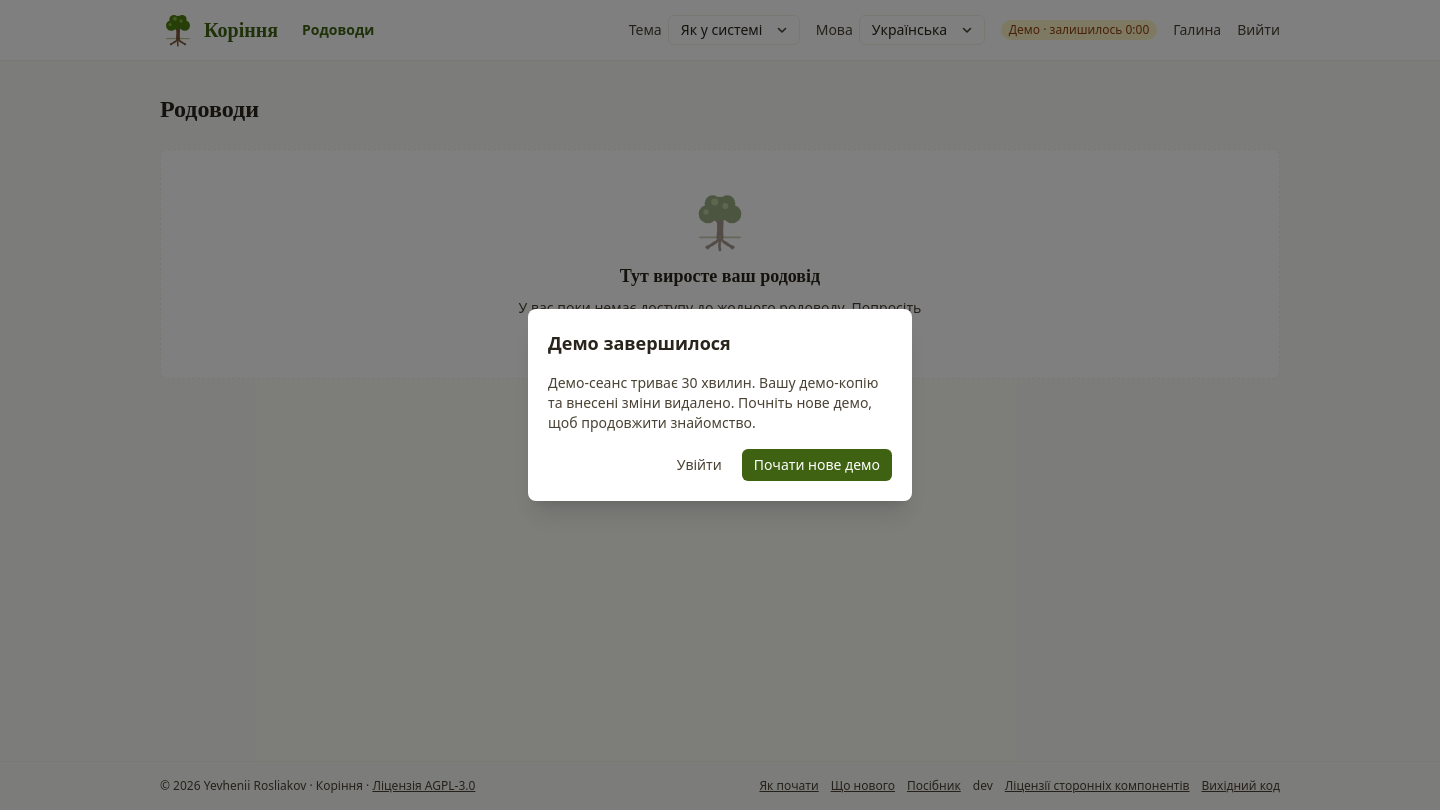
Test case: session timeout › shows the demo countdown and offers a fresh demo when it ends
expect the dialog "Демо завершилося" is shown: met, box x1=528 y1=309 x2=912 y2=501
Click the button "Почати нове демо": (817,465) x1=742 y1=449 x2=892 y2=481
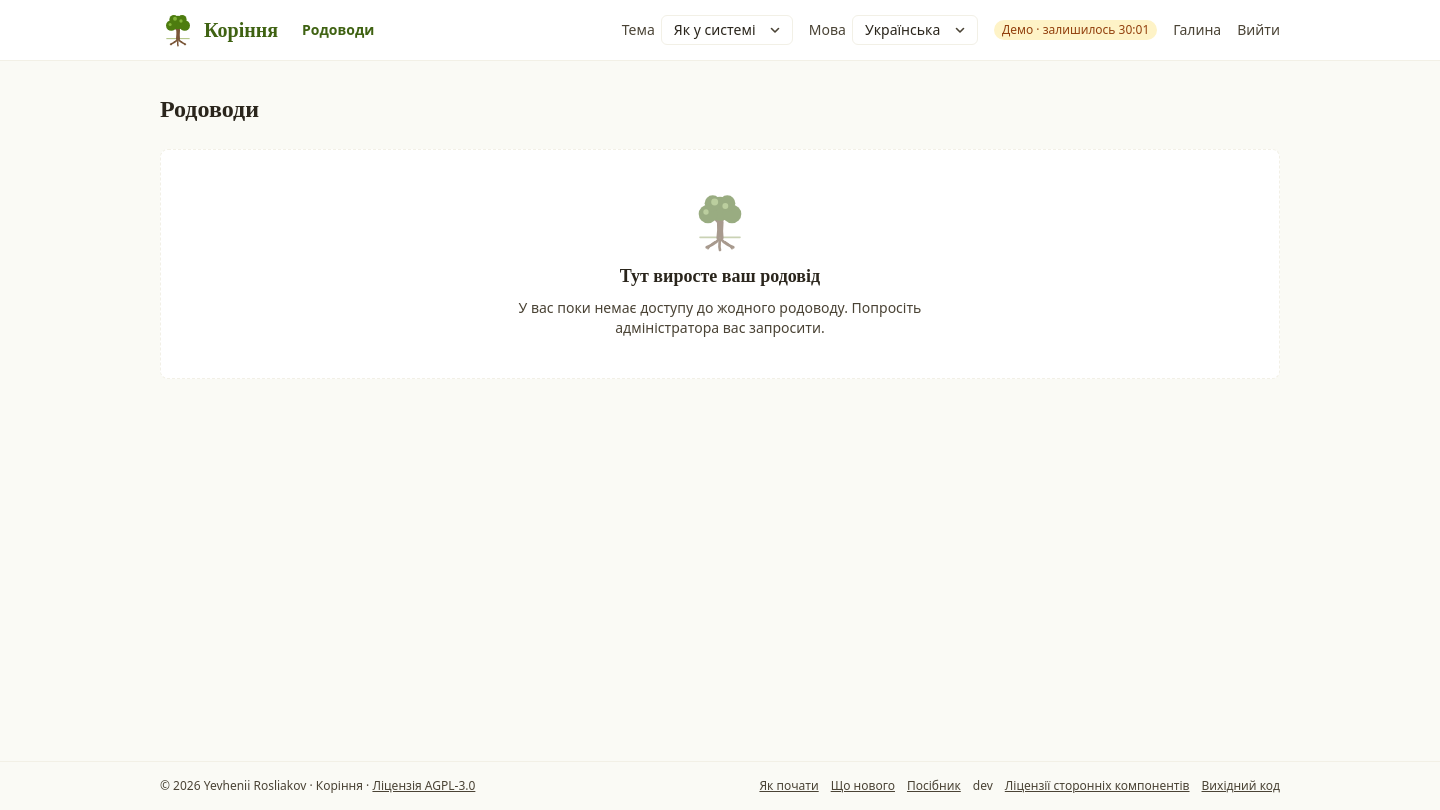
expect the text "Демо · залишилось 30:01" is shown: met, box x1=994 y1=20 x2=1157 y2=40
expect the dialog is gone: met
